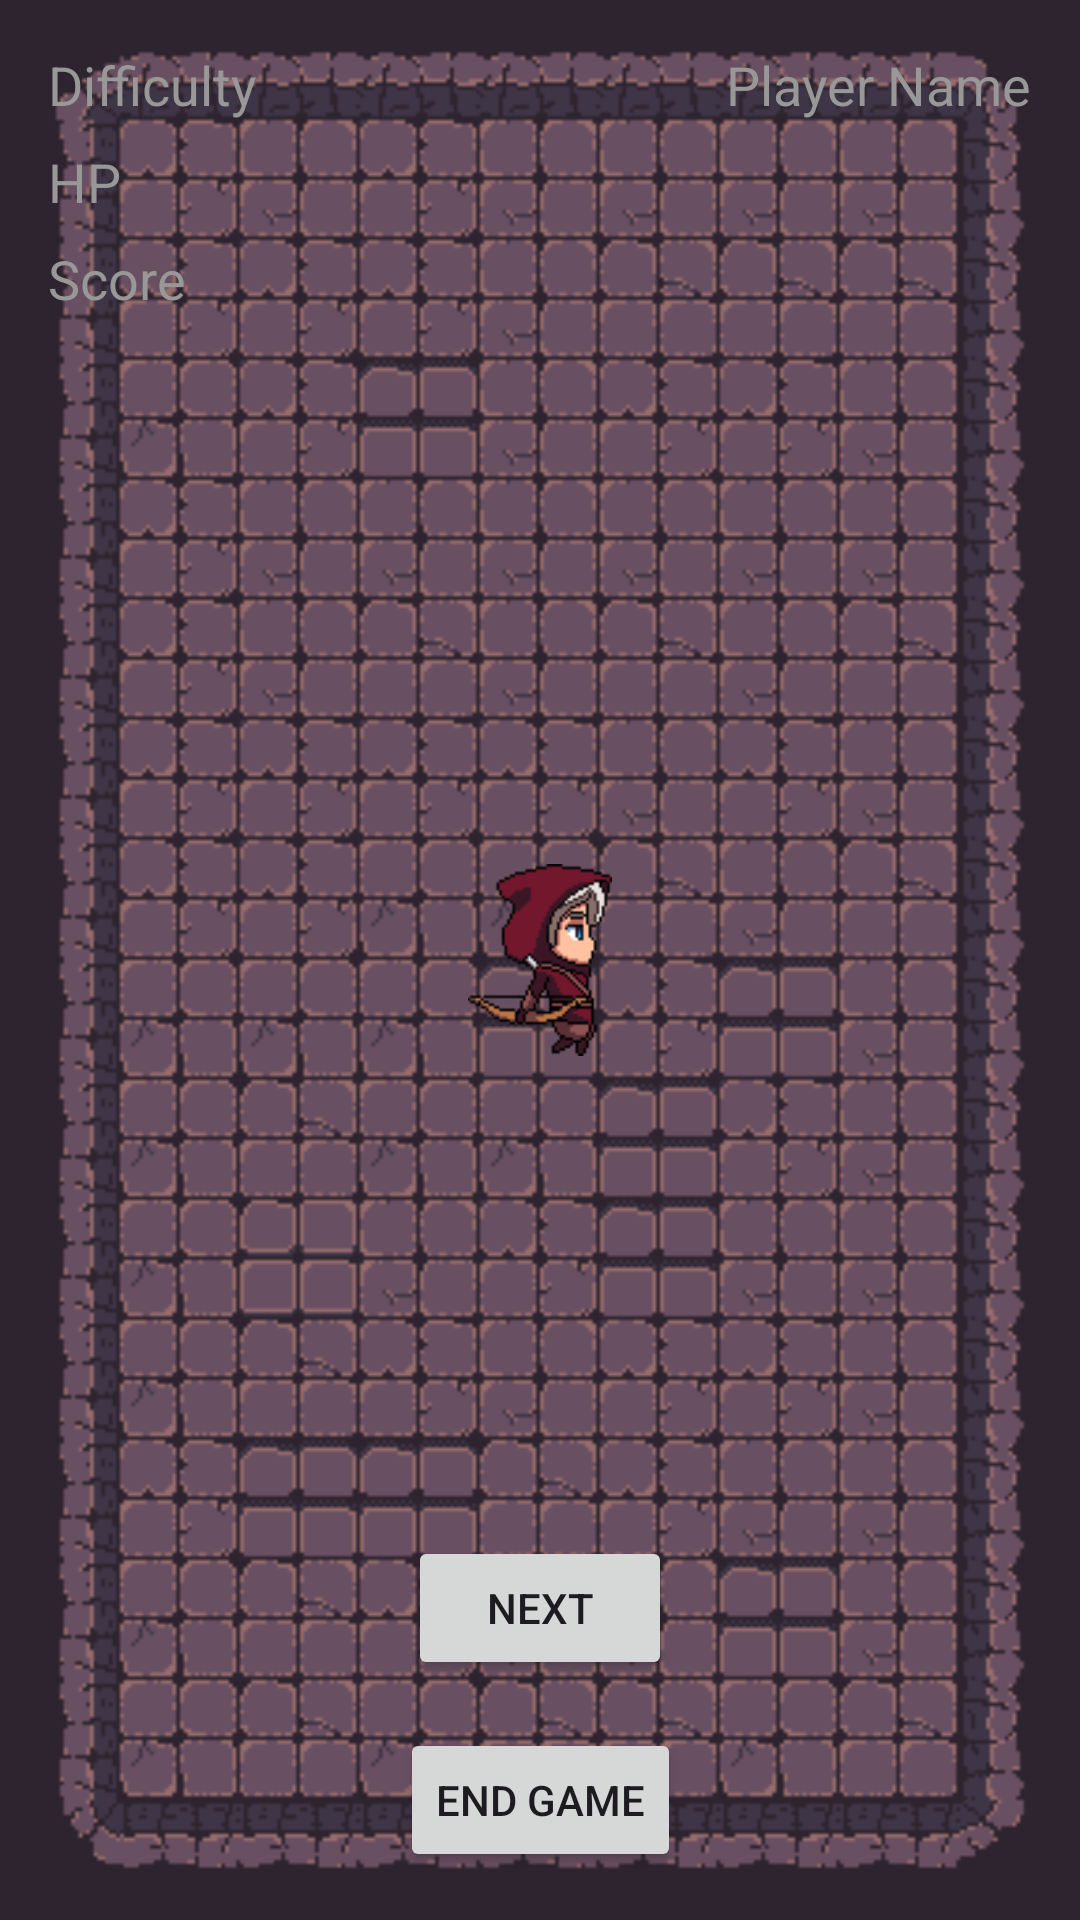

Screen size 1080×1920. Icon name, then its center in pixels as point (x, y):
archer: point (540, 960)
